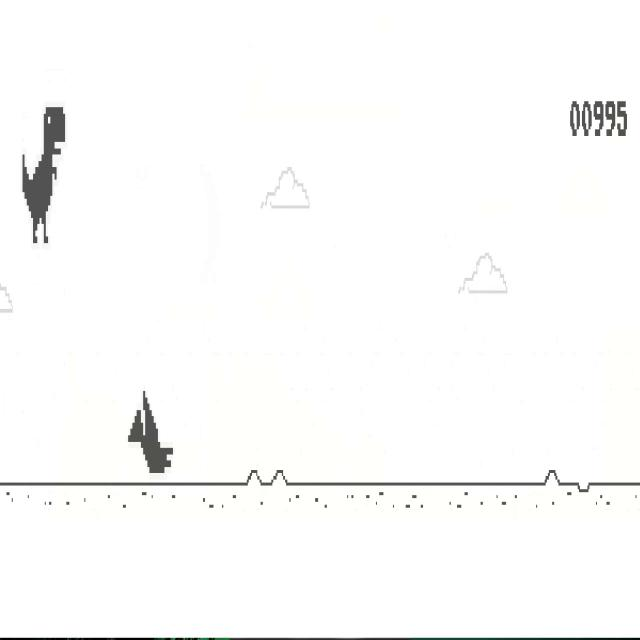dino: (22, 107, 66, 246)
ptero: (127, 388, 174, 475)
